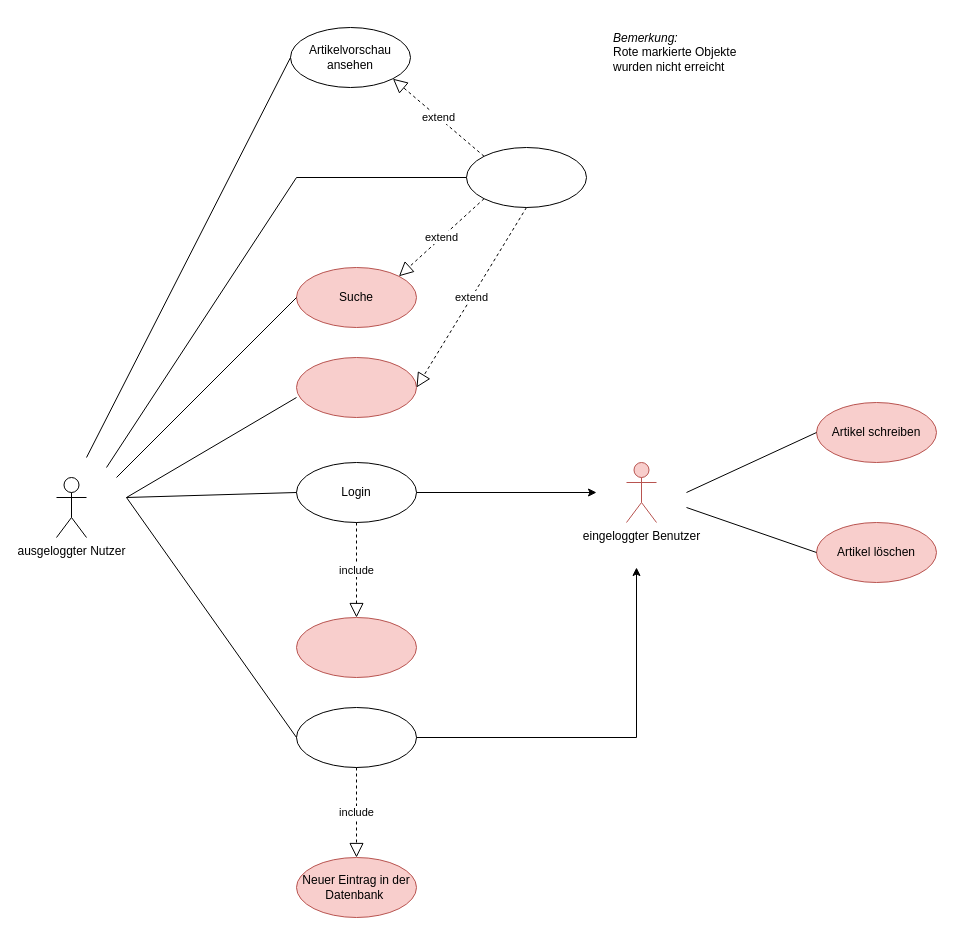
Image size: 954x935. Some labels were removed from this diagram. Each missing label, with the centre of its shape:
Artikel ansehen: (x=526, y=177)
Authentifizierung: (x=356, y=647)
Neuregistrierung: (x=356, y=737)
Tags klicken: (x=356, y=387)
